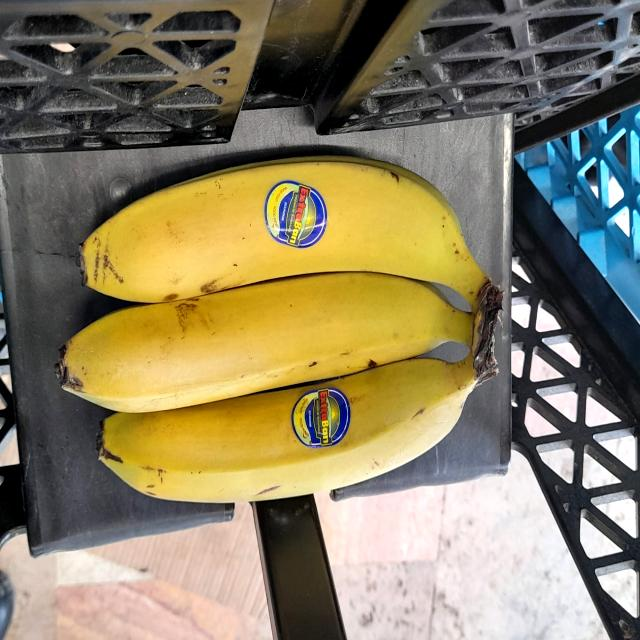banana: (47, 127, 517, 518), (72, 144, 503, 314)
